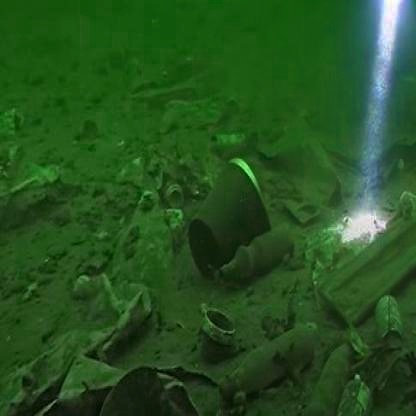plastic: (171, 146, 268, 294)
